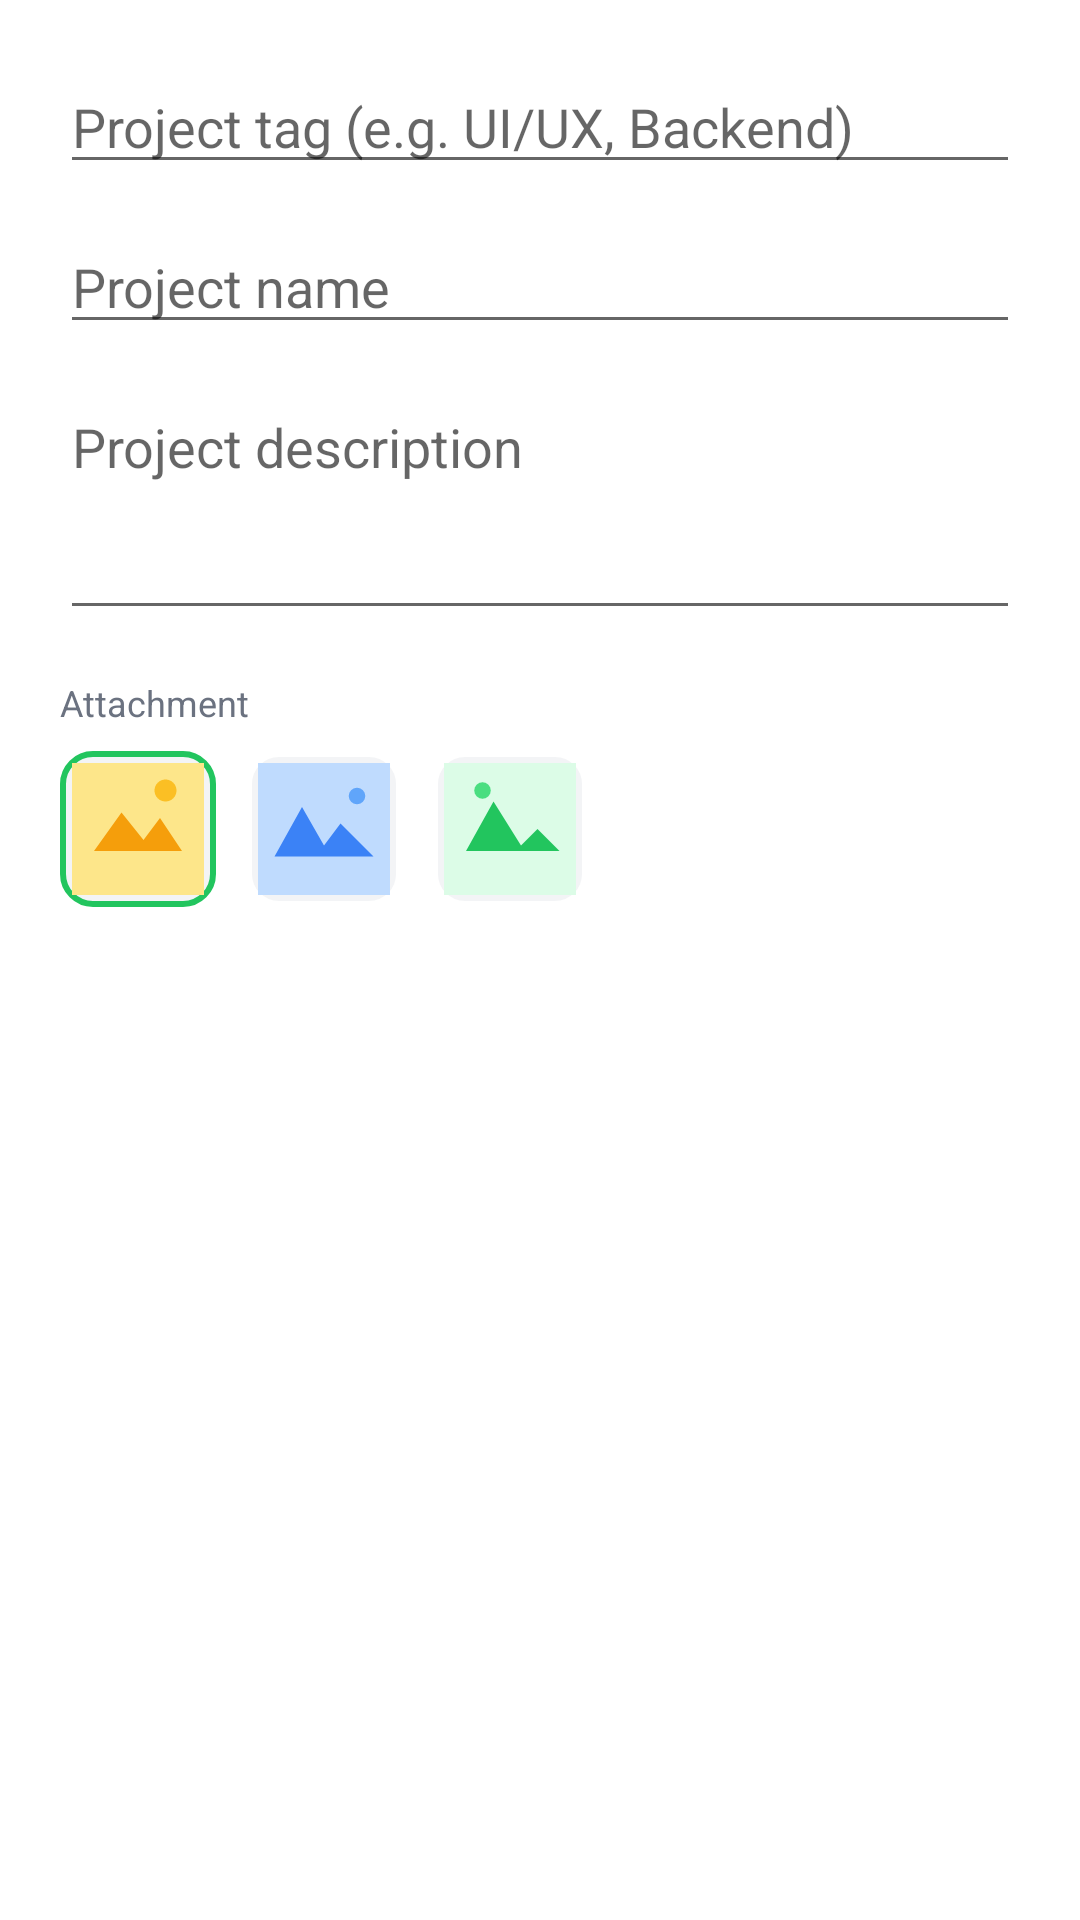

Point at icon controls on the screen. Image size 1080×1920, points as point (x, y).
Attachment option 3: point (510, 829)
